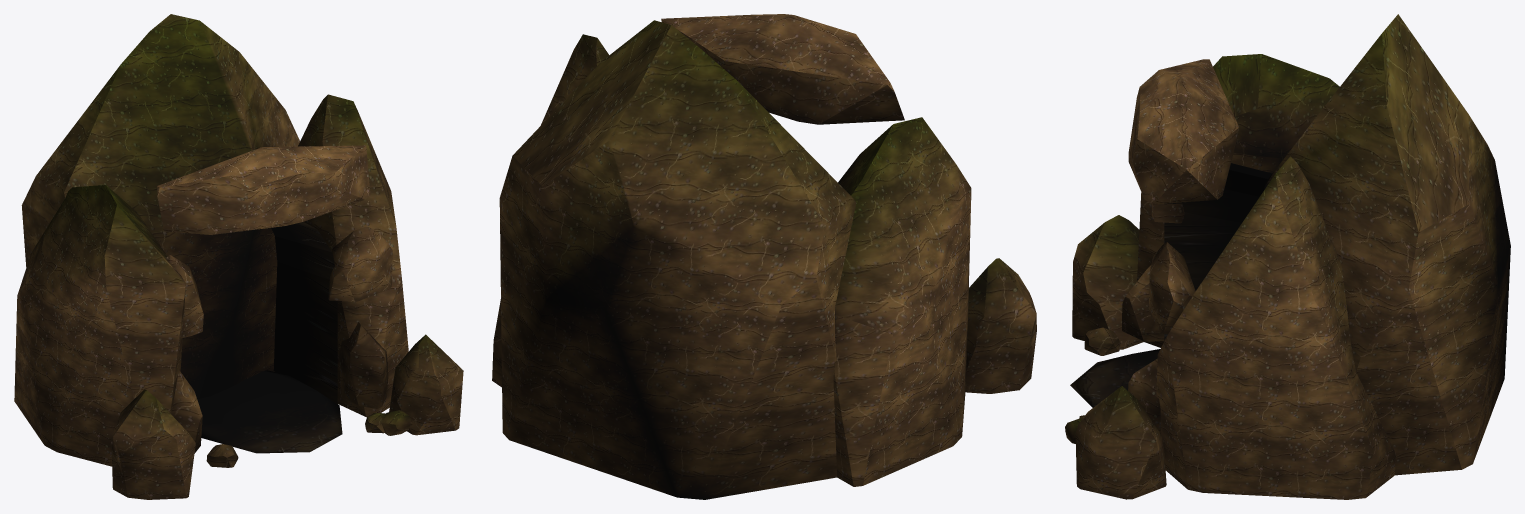
Rendered from cave_mouth_mud_lod1.glb.
The picture shows the model from 3 angles, left to right: view 1: azimuth 30°, elevation 25°; view 2: azimuth 150°, elevation 25°; view 3: azimuth 270°, elevation 25°; orthographic projection. The views are drawn at different scales.
Visible parts, largest first — view 1: cave_mouth_mud_lod1; view 2: cave_mouth_mud_lod1; view 3: cave_mouth_mud_lod1.
Boxes of the visible parts, box(x1,y1,x2,y2) form: cave_mouth_mud_lod1: box(14, 14, 463, 499); cave_mouth_mud_lod1: box(492, 14, 1036, 499); cave_mouth_mud_lod1: box(1065, 14, 1510, 499).
Bounding box in the file's own units: 3.02 × 2.87 × 2.95.
2 materials, 1 textured.
